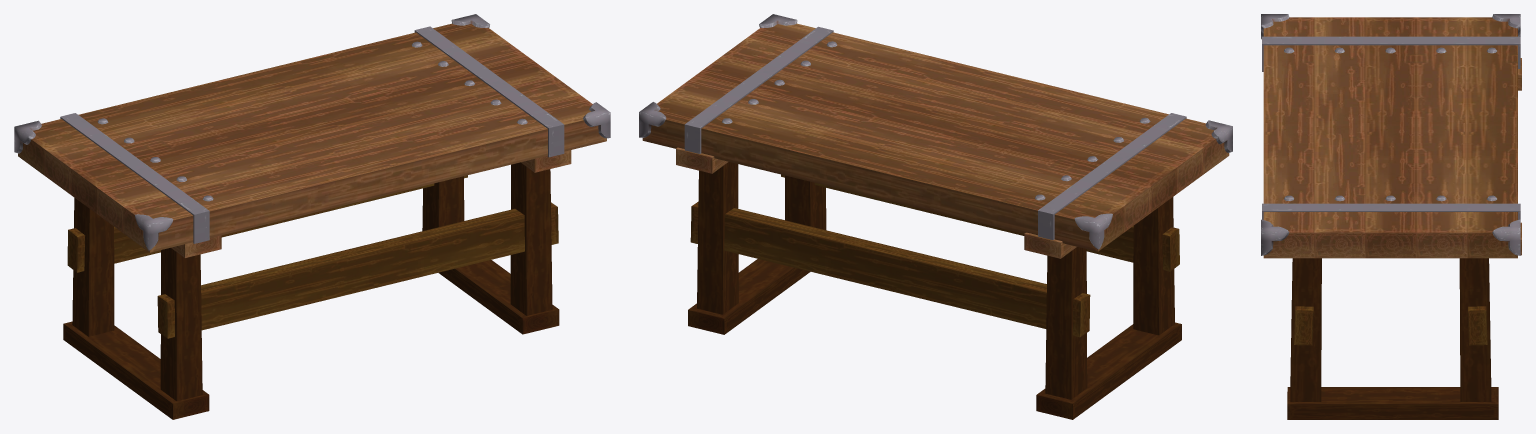
The model's file is Workbench.glb.
3 views of the same model, side by side, from view 1: azimuth 30°, elevation 25°; view 2: azimuth 150°, elevation 25°; view 3: azimuth 270°, elevation 25° (orthographic). The views are drawn at different scales.
Parts seen in each view (by area): view 1: Workbench; view 2: Workbench; view 3: Workbench.
Part boxes in pixels (bbox=[...]): Workbench: bbox=[14, 14, 610, 419]; Workbench: bbox=[639, 14, 1232, 419]; Workbench: bbox=[1261, 14, 1521, 419].
Size of the model in its own units: 2.02 by 0.8946 by 1.02.
Materials: 2 (2 with a texture image).
